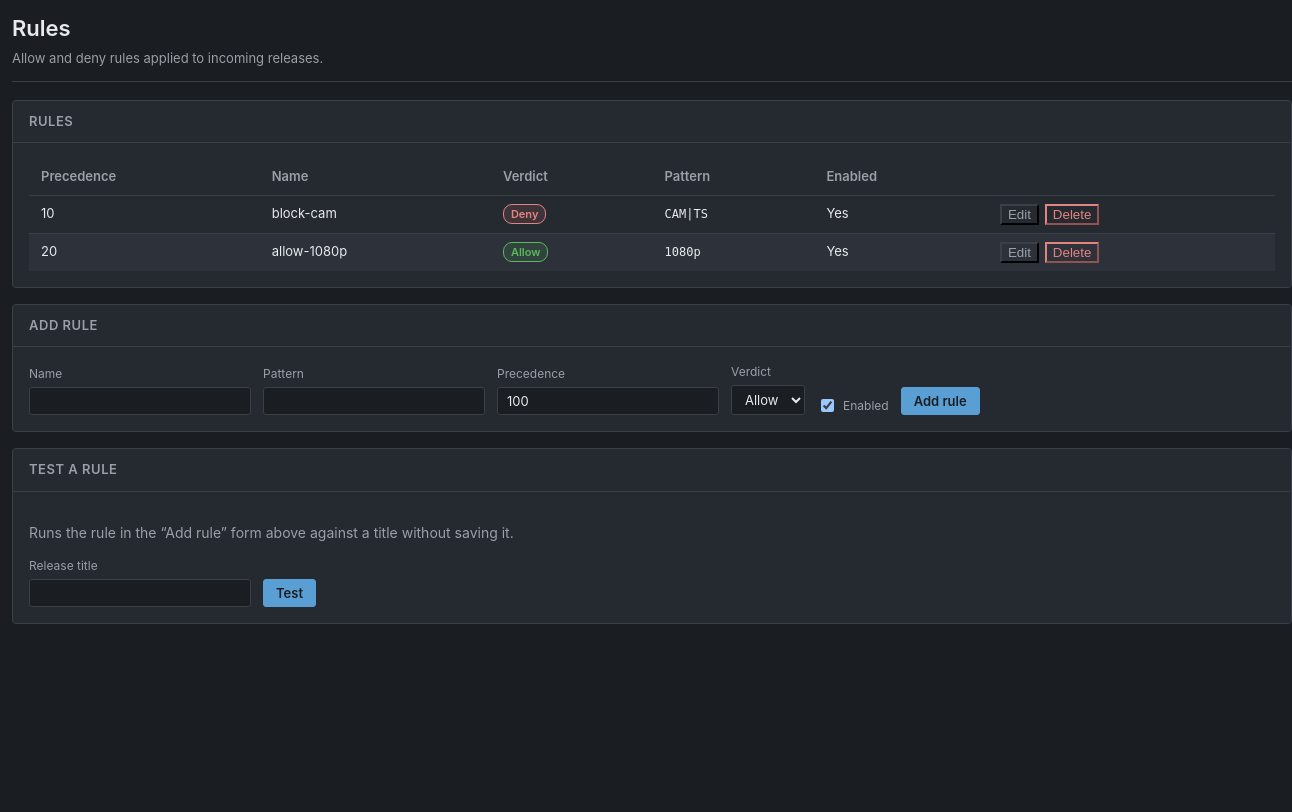
Scenario: Rules › renders the server rejection verbatim and clamps nothing
Check: the text "block-cam" is shown, box x1=260 y1=195 x2=491 y2=233
Step 1. Click the button "Edit" in the row of "block-cam" → click(1019, 214), box x1=1000 y1=204 x2=1039 y2=224
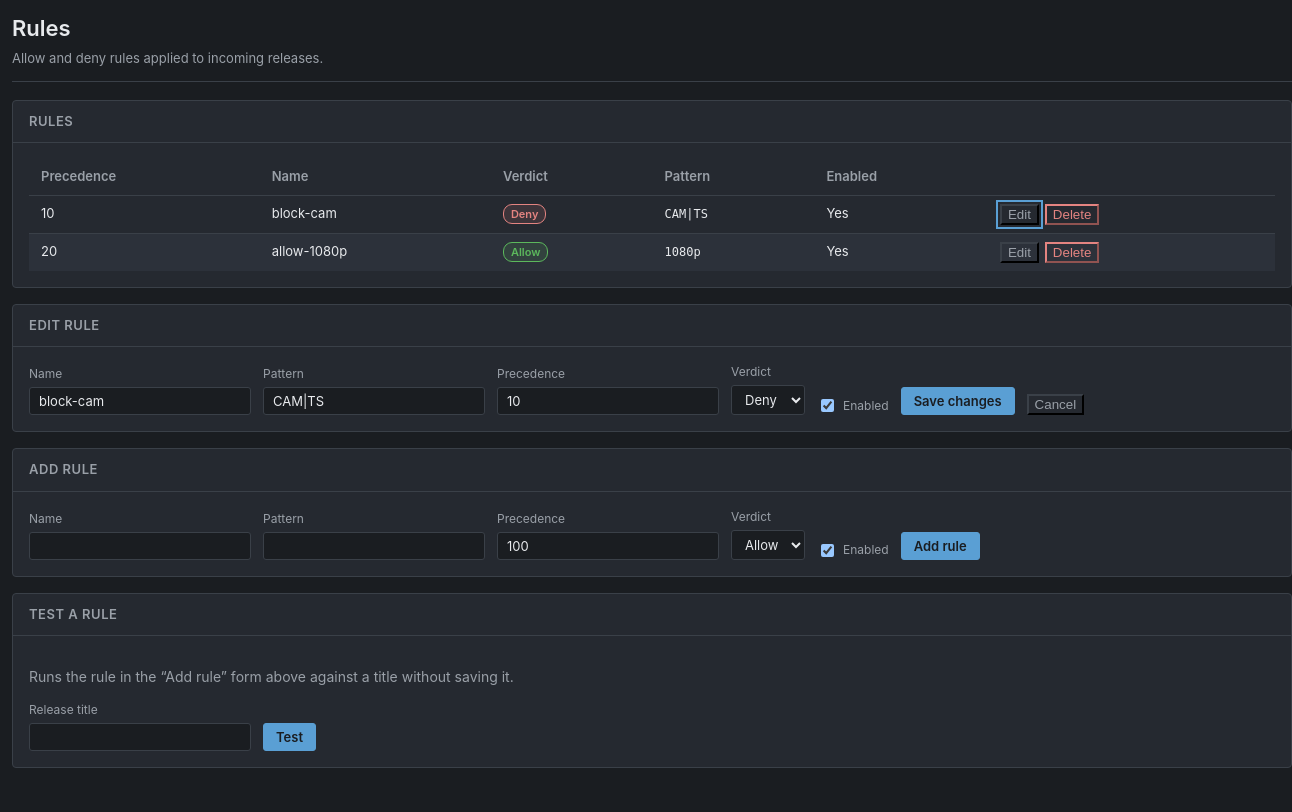
Step 2. Replace the text in the 1st number field labelled "Precedence" with "99999" → (608, 401), box x1=497 y1=387 x2=719 y2=415
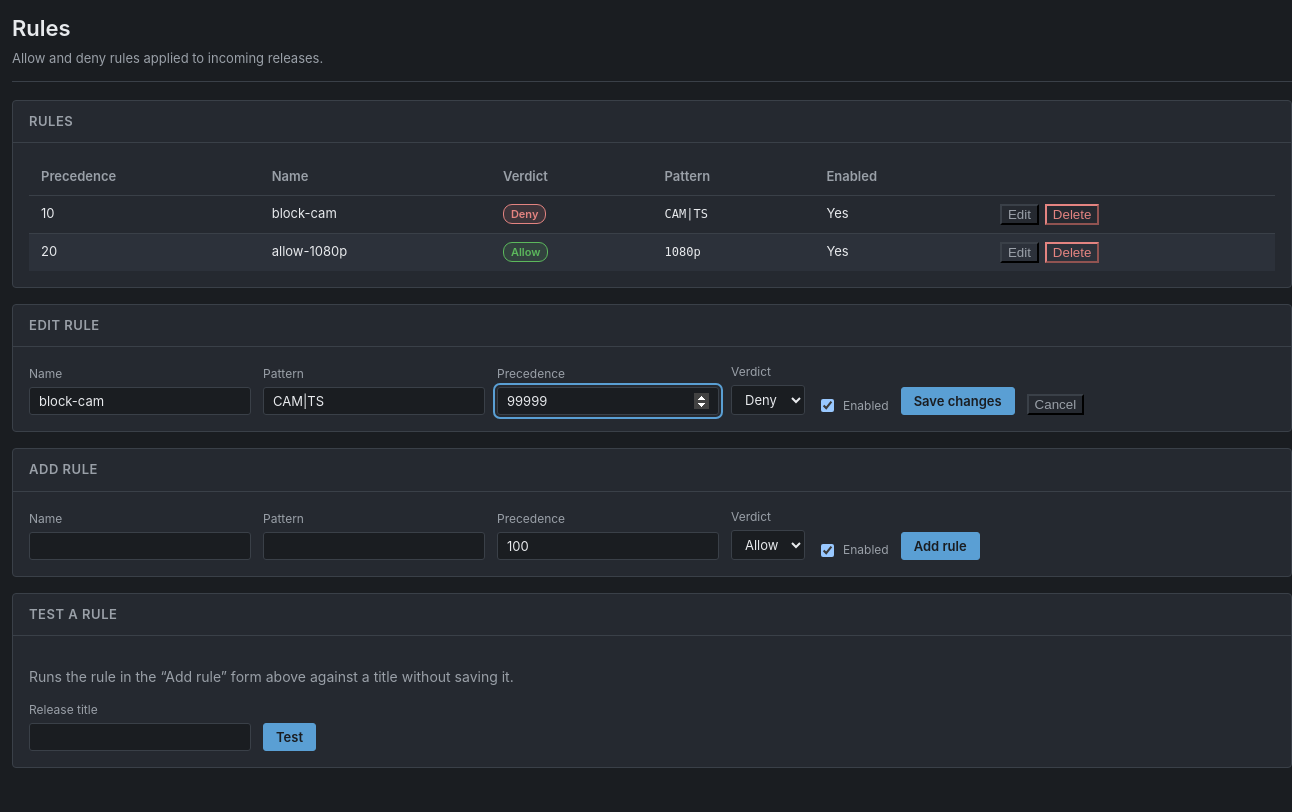
Step 3. Click the button "Save changes" → click(958, 401), box x1=901 y1=387 x2=1015 y2=415
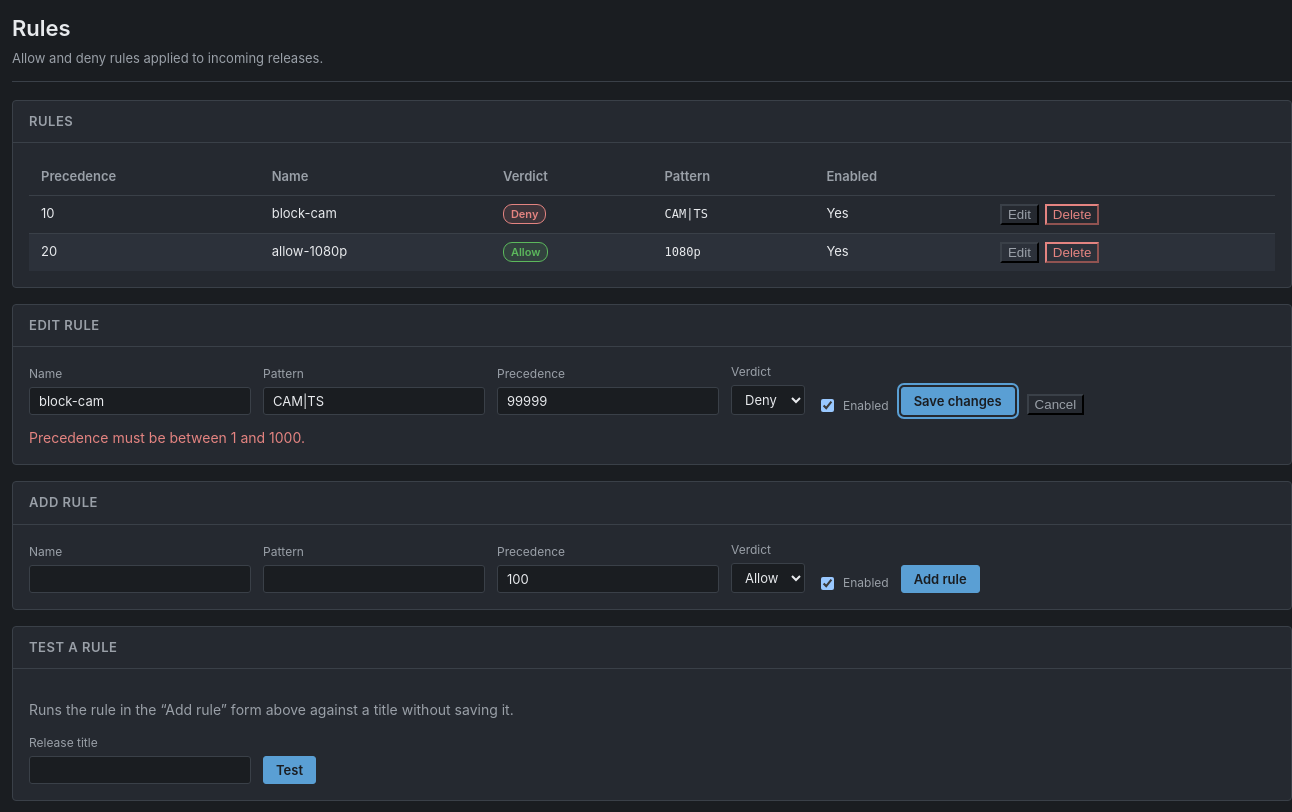
Check: the text "Precedence must be between 1 and 1000." is shown, box x1=29 y1=427 x2=305 y2=448
